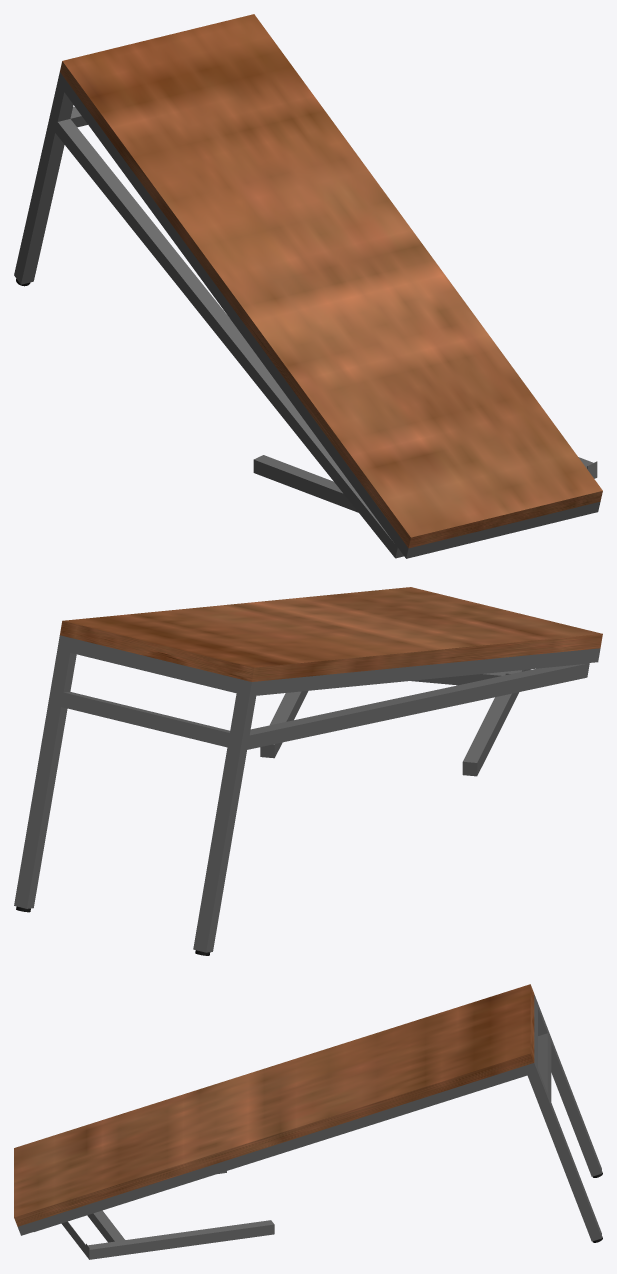
File: Computer_Table_1_broken.fbx
3 renders of one model, top to bottom at view 1: azimuth 30°, elevation 25°; view 2: azimuth 150°, elevation 25°; view 3: azimuth 270°, elevation 25°, orthographic. The views are drawn at different scales.
Visible parts, largest first — view 1: Table Top, frame, frame .001; view 2: Table Top, frame, frame .001; view 3: Table Top, frame, frame .001.
Boxes of the visible parts, left/top/right/bottom form: Table Top: left=60, top=14, right=602, bottom=548; frame: left=14, top=72, right=600, bottom=558; frame .001: left=253, top=455, right=597, bottom=512; Table Top: left=60, top=587, right=602, bottom=681; frame: left=14, top=635, right=600, bottom=952; frame .001: left=260, top=669, right=530, bottom=776; Table Top: left=14, top=984, right=534, bottom=1226; frame: left=18, top=994, right=601, bottom=1241; frame .001: left=61, top=1171, right=274, bottom=1259.
Bounding box in the file's own units: 79.07 × 76.82 × 215.
4 materials, 4 textured.
